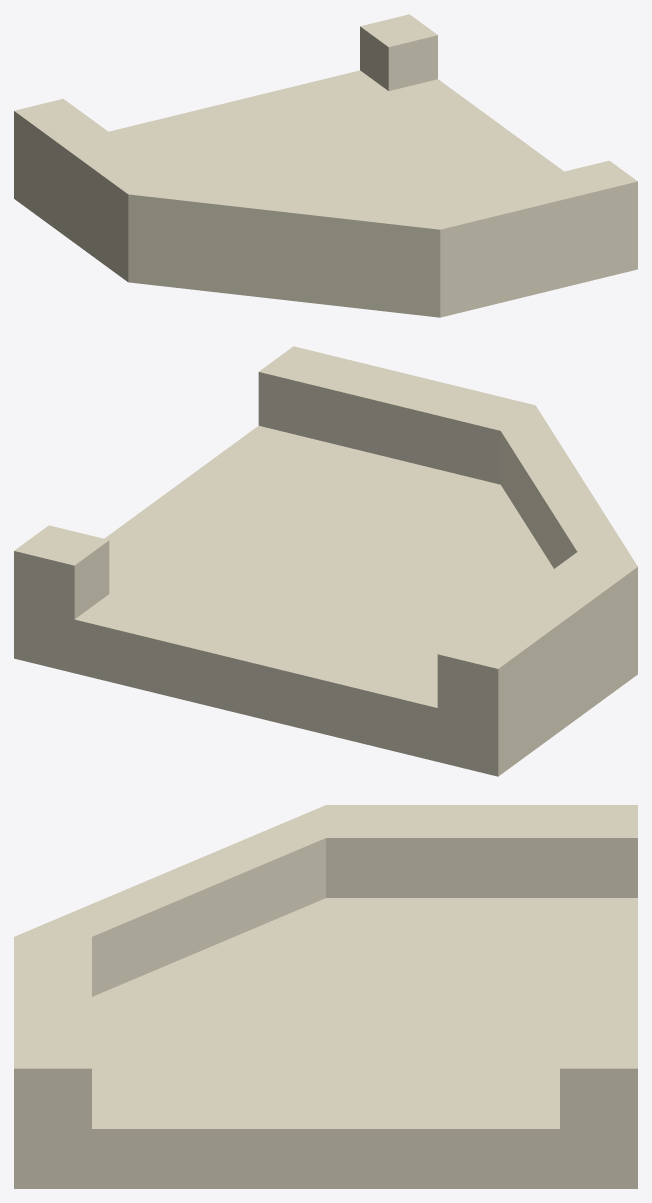
Rendered from modularBuildings_007.fbx.
3 views of the same model, one above another, from view 1: azimuth 30°, elevation 25°; view 2: azimuth 150°, elevation 25°; view 3: azimuth 270°, elevation 25° (orthographic). The views are drawn at different scales.
Parts seen in each view (by area): view 1: Mesh1 Group1 Model; view 2: Mesh1 Group1 Model; view 3: Mesh1 Group1 Model.
Part boxes in pixels (x1,y1,x2,y2): Mesh1 Group1 Model: (14,14,637,317); Mesh1 Group1 Model: (14,346,637,776); Mesh1 Group1 Model: (14,805,637,1188).
Size of the model in its own units: 1 by 0.2125 by 1.
